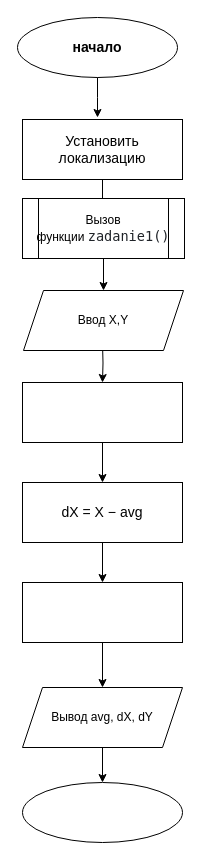
Image size: 202x860. Some labels were removed from this diagram. The shapes that lost their labels are listed below. From the top down, each one's box as (x1, y1, x2, y2) in pixels, then its label:
(22, 382, 182, 442): avg = (X + Y) / 2
(22, 582, 182, 642): dY = Y − avg
(22, 782, 182, 842): конец
